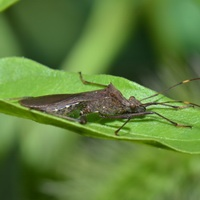insect: (2, 69, 199, 153)
